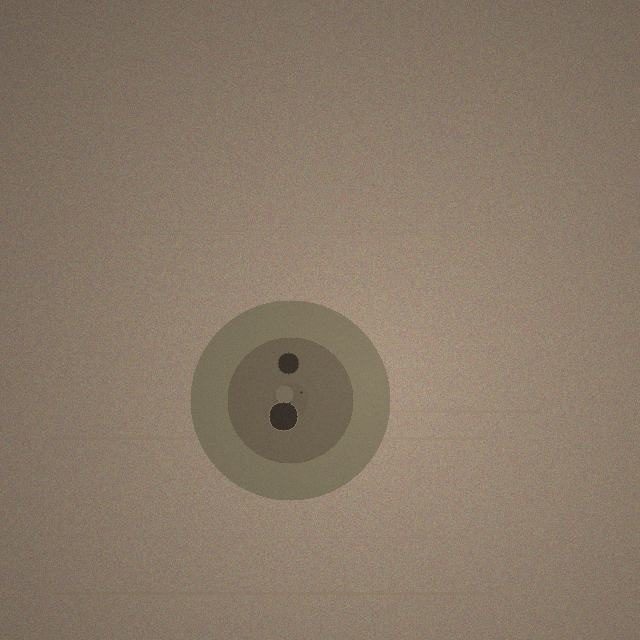shrinkage: (190, 300, 390, 500)
